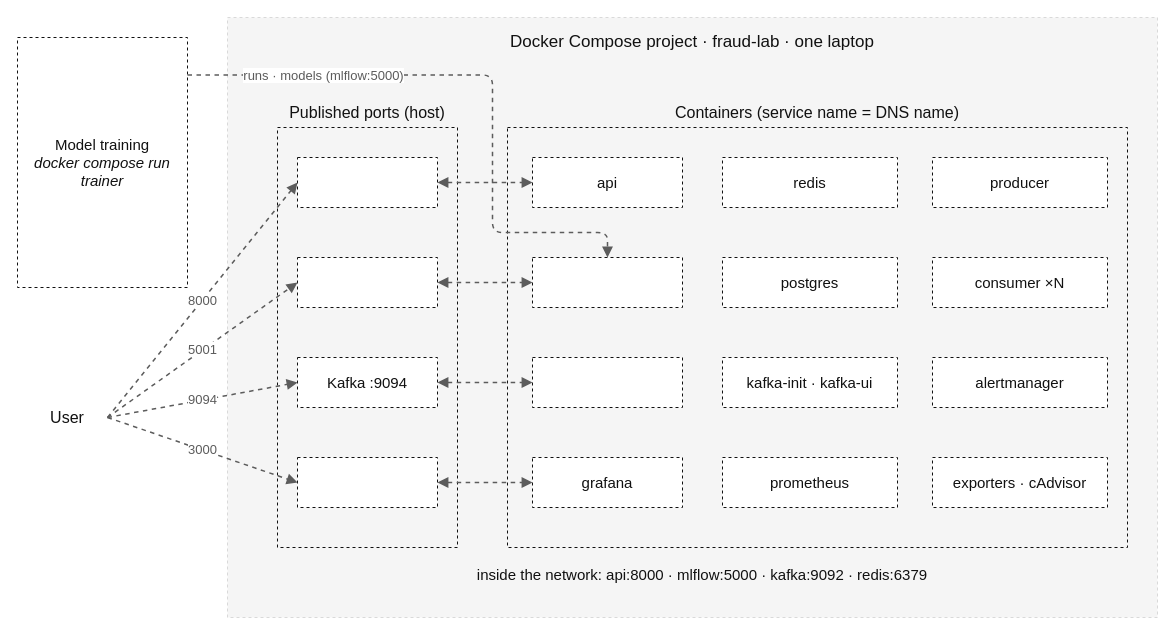
Image size: 1175x635. Some labels were removed from this diagram. The shapes that lost their labels are listed below. From the top down, each one's centre as x and y in pixels, then its label:
the point at 367,182: API :8000
the point at 367,282: MLflow :5001
the point at 607,282: mlflow
the point at 607,382: kafka
the point at 367,482: Grafana :3000
